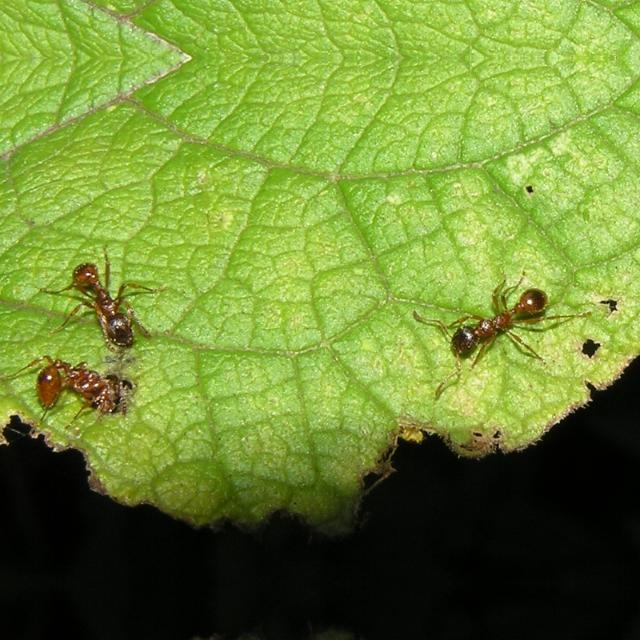Myrmica: (424, 245, 568, 383), (18, 342, 138, 436), (68, 253, 152, 349)
